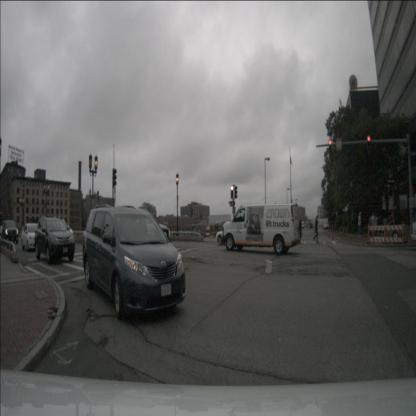human-pedestrian-adult: (313, 215, 319, 244), (371, 212, 376, 237), (298, 217, 302, 245), (358, 211, 362, 238), (374, 214, 378, 238), (368, 214, 372, 237)
movable_object-trafficcone: (382, 222, 388, 244), (366, 224, 371, 244), (401, 220, 405, 245), (403, 221, 407, 243), (371, 222, 375, 244), (331, 228, 334, 240)
vehicle-car: (81, 205, 185, 320), (223, 203, 299, 255), (35, 215, 76, 263), (21, 222, 45, 252), (386, 220, 411, 242), (215, 225, 241, 246), (2, 220, 18, 246), (323, 221, 329, 230), (309, 222, 313, 230)
